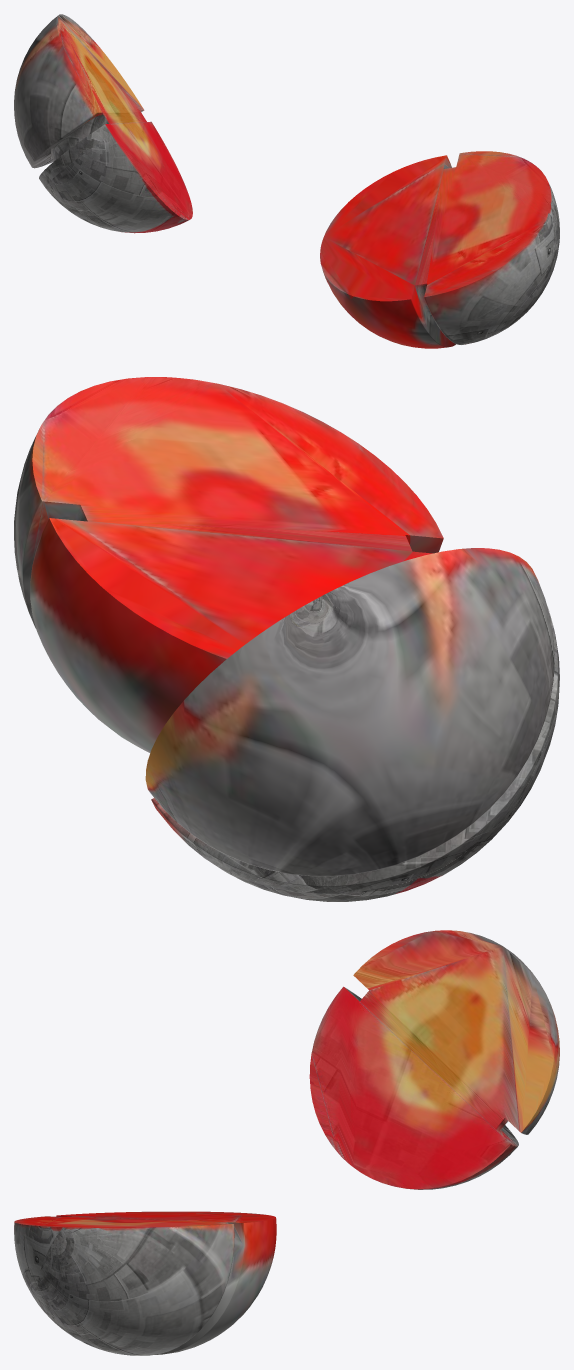
File: Drone166_000011.obj
3 renders of one model, top to bottom at view 1: azimuth 30°, elevation 25°; view 2: azimuth 150°, elevation 25°; view 3: azimuth 270°, elevation 25°, orthographic. The views are drawn at different scales.
Parts seen in each view (by area): view 1: Sphere.001_Sphere.005, Sphere.000_Sphere.004; view 2: Sphere.000_Sphere.004, Sphere.001_Sphere.005; view 3: Sphere.000_Sphere.004, Sphere.001_Sphere.005.
Boxes of the visible parts, x1,y1,x2,y2 form: Sphere.001_Sphere.005: (320,151,559,348); Sphere.000_Sphere.004: (14,14,192,233); Sphere.000_Sphere.004: (145,548,559,901); Sphere.001_Sphere.005: (14,377,443,752); Sphere.000_Sphere.004: (309,930,559,1189); Sphere.001_Sphere.005: (14,1211,276,1355).
Size of the model in its own units: 3.85 by 2.52 by 4.34.
4 materials, 4 textured.
